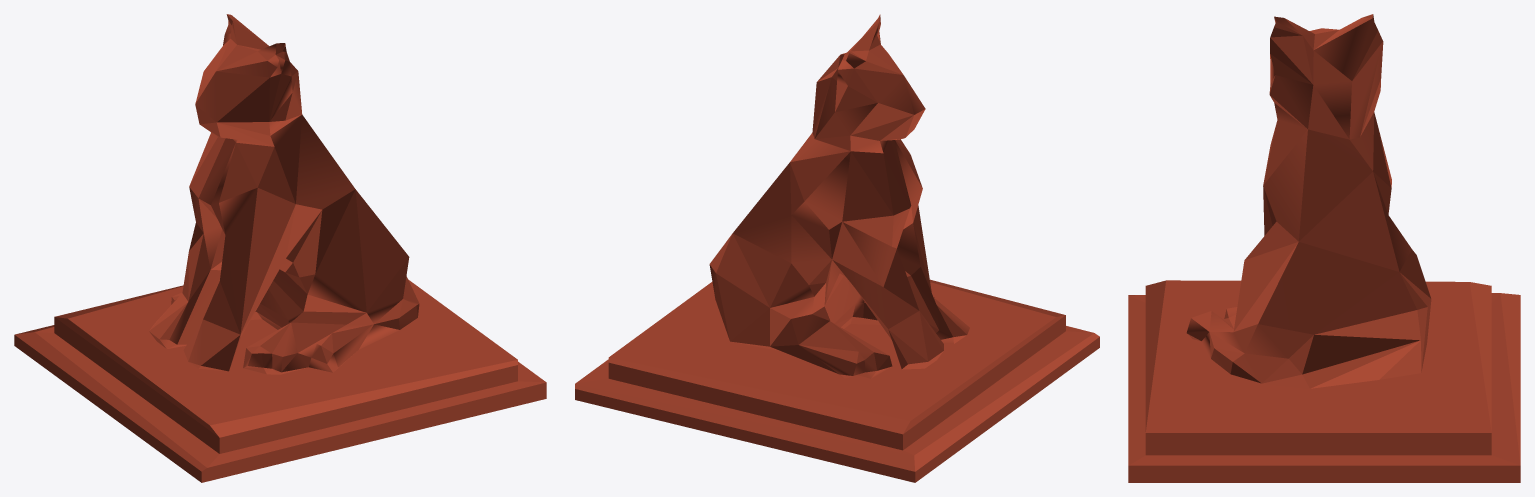
File: bronzeKitty.FBX
The picture shows the model from 3 angles, left to right: view 1: azimuth 30°, elevation 25°; view 2: azimuth 150°, elevation 25°; view 3: azimuth 270°, elevation 25°; orthographic projection. The views are drawn at different scales.
Visible parts, largest first — view 1: Box229; view 2: Box229; view 3: Box229.
Boxes of the visible parts, bbox=[...] form: Box229: bbox=[14, 14, 546, 482]; Box229: bbox=[575, 14, 1099, 482]; Box229: bbox=[1128, 14, 1520, 482].
Bounding box in the file's own units: 12.06 × 11.75 × 11.34.
